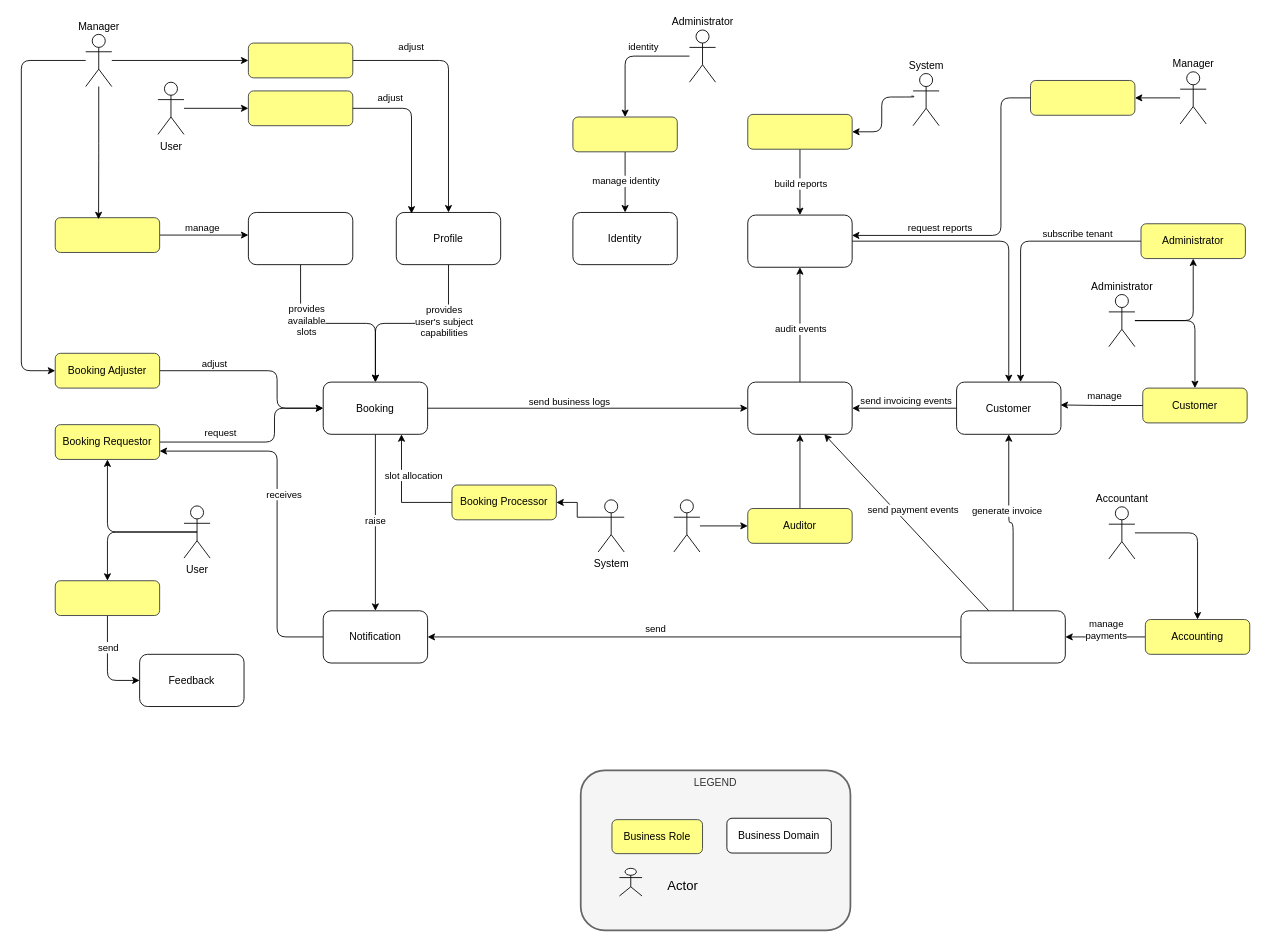
This 1265x946 diagram has some shape labels left out. The shapes that lost their labels are listed below. From the top down, each one's centre as x and y in pixels, then its label:
(x=300, y=60): Profile Adjuster
(x=300, y=108): Profile Owner
(x=1082, y=97): Report Viewer
(x=624, y=134): Identity Manager
(x=799, y=131): Report Builder
(x=107, y=234): Configuration Manager
(x=300, y=238): Configuration
(x=799, y=240): Reporting
(x=799, y=407): Audit
(x=686, y=525): IT Support
(x=107, y=598): Feedback Sender
(x=1012, y=636): Billing
